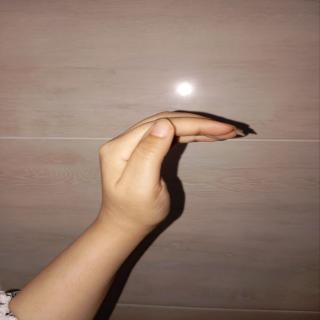HAA: (79, 102, 254, 249)
